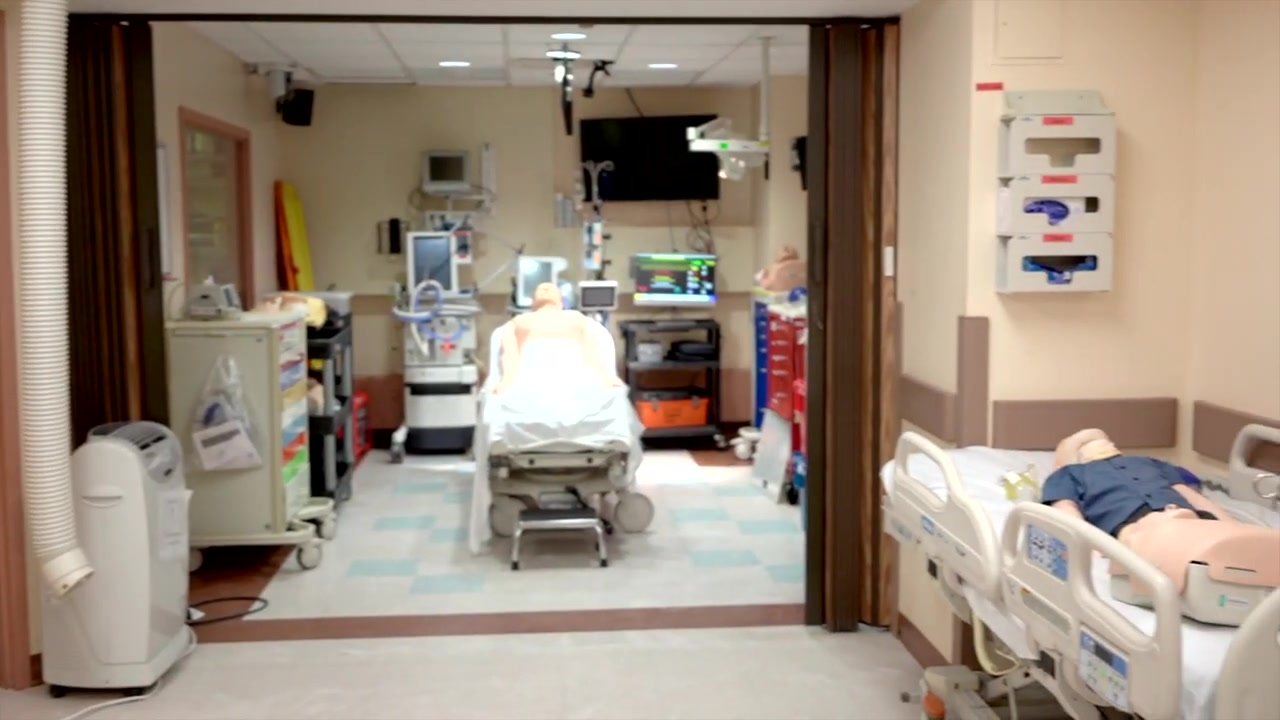TV: (579, 113, 720, 200)
bedrail: (999, 500, 1182, 720), (891, 430, 998, 596), (1227, 422, 1280, 514)
bedside_monitor: (633, 252, 718, 307), (518, 256, 556, 305), (423, 152, 471, 190), (579, 284, 618, 308)
breathing_tube: (392, 280, 481, 360)
handle: (289, 424, 307, 435), (288, 445, 306, 454), (296, 487, 310, 497), (287, 355, 304, 363), (772, 391, 788, 399), (772, 369, 788, 377), (771, 340, 787, 348), (771, 325, 787, 333), (771, 355, 787, 362)
hospital_bed: (880, 420, 1280, 720)
iv_pole: (579, 160, 613, 222)
medical_drawer: (164, 309, 336, 566), (749, 285, 808, 442), (766, 305, 808, 484)
operating_bed: (477, 309, 656, 534)
utility_cart: (307, 323, 352, 497)
ventilator: (392, 231, 481, 450)
